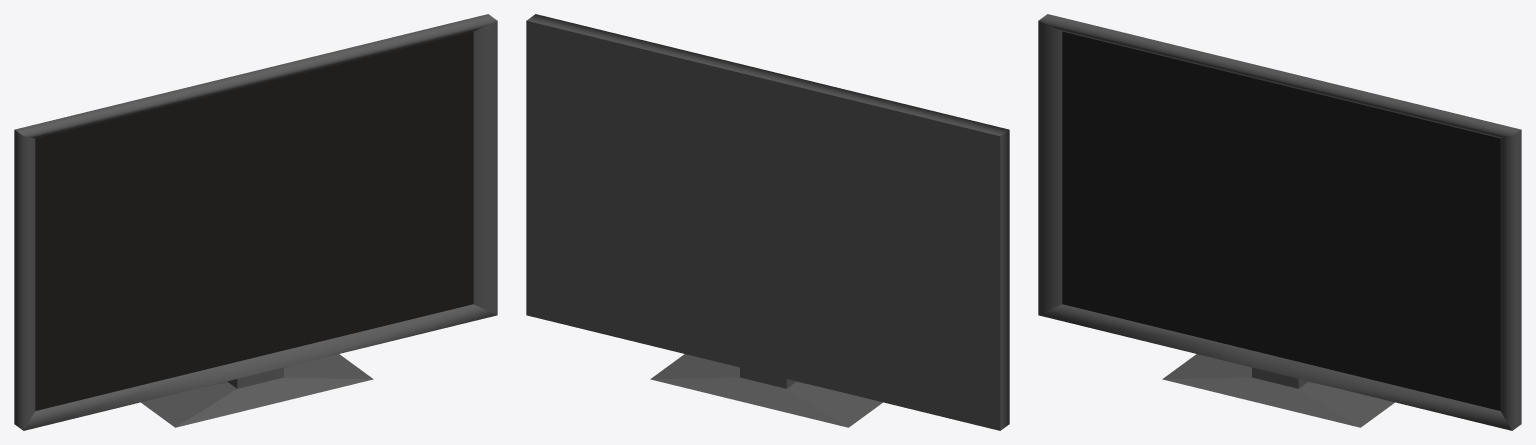
The picture shows the model from 3 angles, left to right: view 1: azimuth 30°, elevation 25°; view 2: azimuth 150°, elevation 25°; view 3: azimuth 330°, elevation 25°; orthographic projection.
Parts seen in each view (by area): view 1: pCube1; view 2: pCube1; view 3: pCube1.
Boxes of the visible parts, bbox=[...] form: pCube1: bbox=[14, 14, 497, 430]; pCube1: bbox=[526, 14, 1009, 430]; pCube1: bbox=[1038, 14, 1521, 430].
Size of the model in its own units: 13.49 by 8.56 by 1.84.
1 material, 1 textured.
